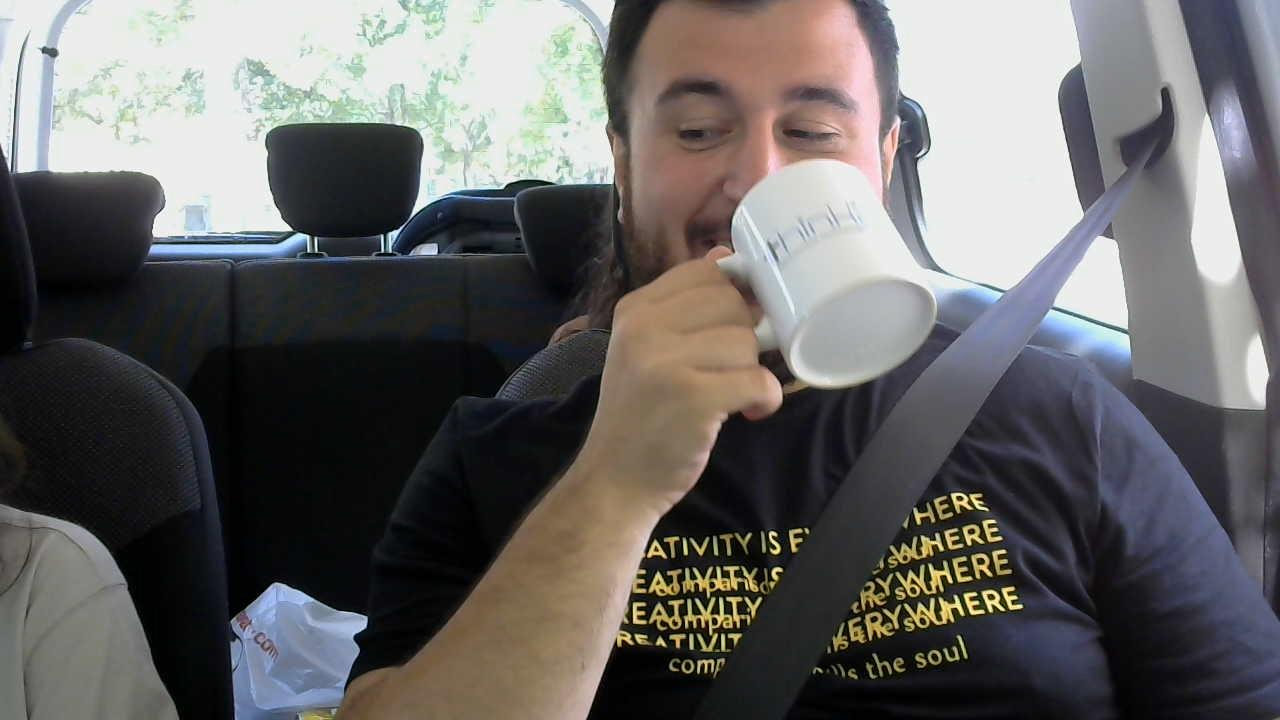Drinking: (609, 0, 936, 456)
